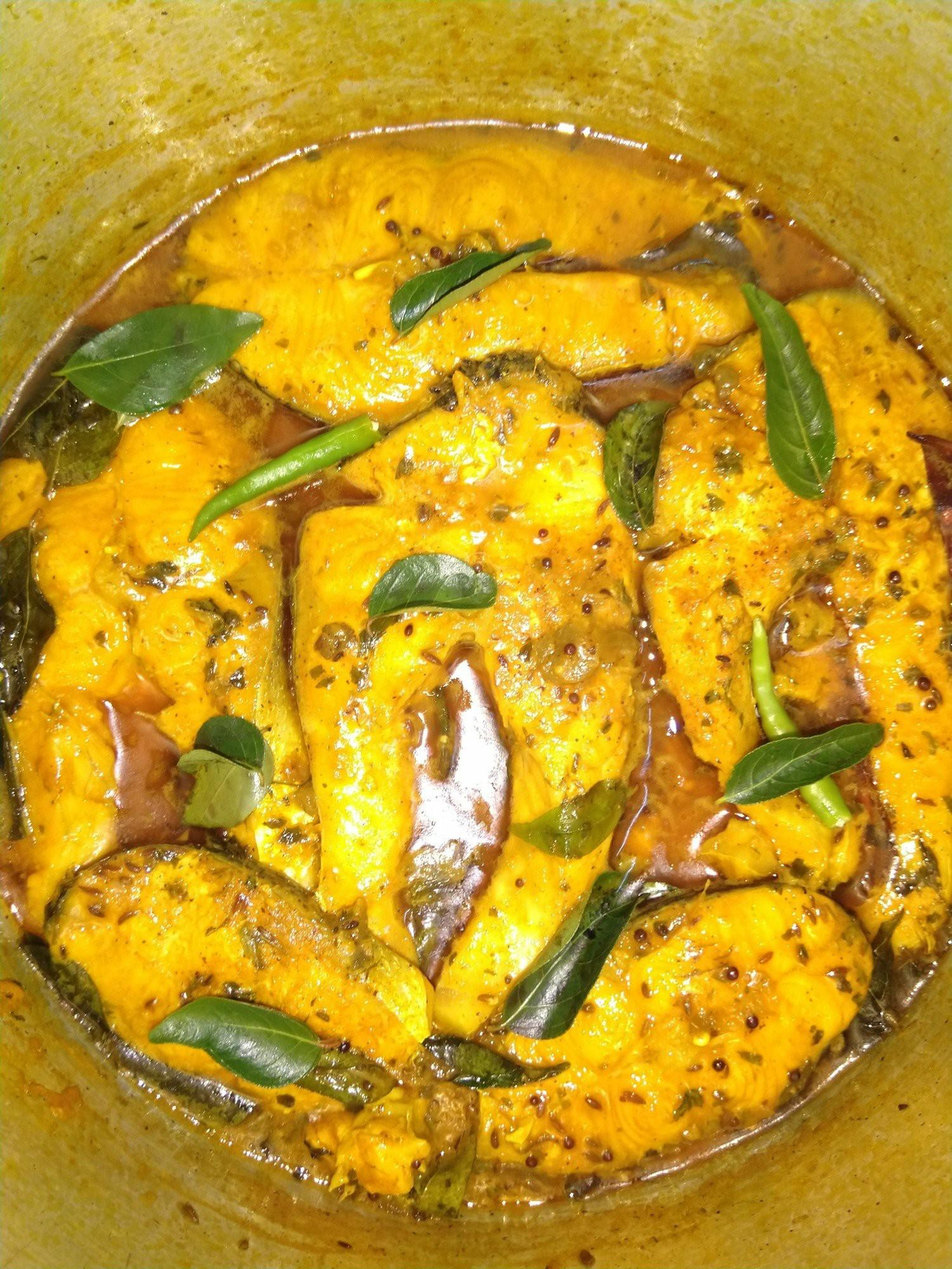FishCurry: (0, 118, 952, 1201)
